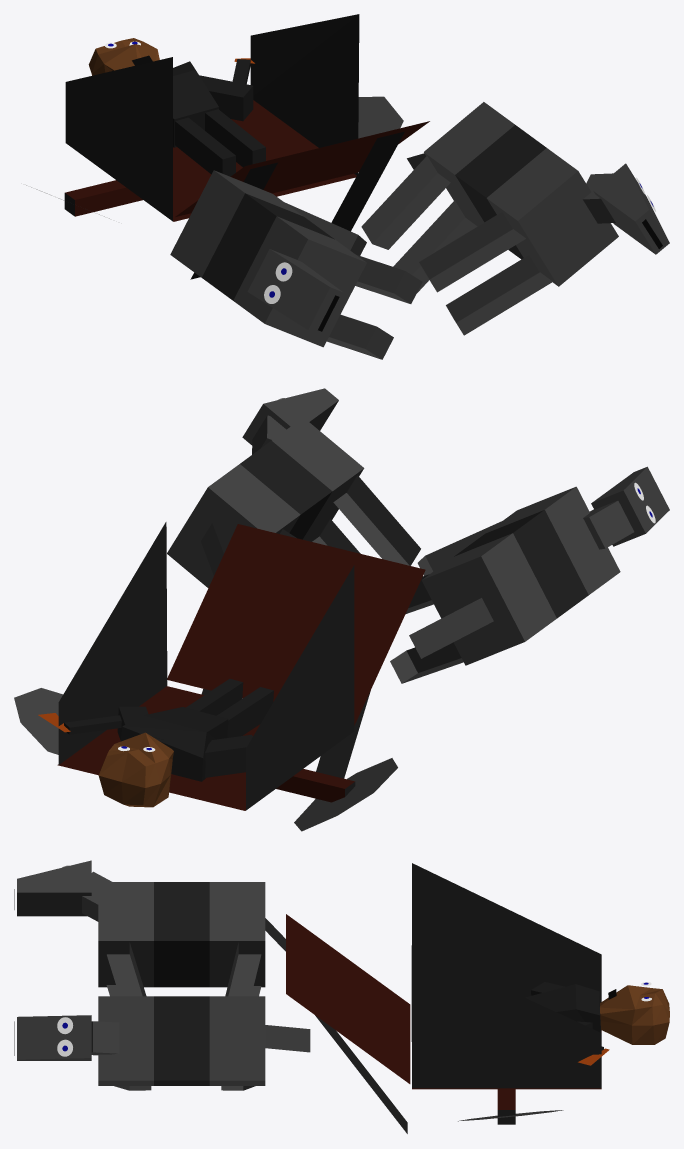
Rendered from lightchariot2d.obj.
The picture shows the model from 3 angles, top to bottom: view 1: azimuth 30°, elevation 25°; view 2: azimuth 150°, elevation 25°; view 3: azimuth 270°, elevation 25°; orthographic projection. The views are drawn at different scales.
Parts seen in each view (by area): view 1: Cube.006_Cube.009, Cube.015_Cube.017, Plane.003, Plane.004, Plane.002, Plane.005_Plane.006, Cube.021_Cube.023, Cube.012_Cube.014, Cube.011_Cube.013, Cube.009_Cube.010, Cube.014_Cube.016, Plane.013_Plane.014 (+13 smaller); view 2: Plane.005_Plane.006, Cube.015_Cube.017, Cube.006_Cube.009, Plane.003, Plane.004, Plane.002, Cube, Cube.001, Cube.012_Cube.014, Cube.021_Cube.023, Cube.014_Cube.016, Plane.010_Plane.011 (+12 smaller); view 3: Plane.004, Cube.015_Cube.017, Cube.006_Cube.009, Plane.003, Plane.005_Plane.006, Cube, Cube.021_Cube.023, Cube.014_Cube.016, Cube.001, Cube.018_Cube.020, Cube.017_Cube.019, Plane.008_Plane.009 (+4 smaller).
Part boxes in pixels (box(x1,y1,x2,y2)): Cube.006_Cube.009: box(424, 102, 618, 286); Cube.015_Cube.017: box(170, 170, 366, 347); Plane.003: box(65, 57, 172, 221); Plane.004: box(250, 14, 359, 175); Plane.002: box(173, 100, 356, 221); Plane.005_Plane.006: box(175, 121, 429, 216); Cube.021_Cube.023: box(247, 249, 343, 335); Cube.012_Cube.014: box(419, 211, 525, 292); Cube.011_Cube.013: box(446, 255, 552, 335); Cube.009_Cube.010: box(361, 156, 450, 249); Cube.014_Cube.016: box(593, 163, 669, 254); Plane.013_Plane.014: box(331, 131, 404, 231); Plane.005_Plane.006: box(167, 524, 425, 725); Cube.015_Cube.017: box(421, 486, 620, 665); Cube.006_Cube.009: box(167, 417, 364, 587); Plane.003: box(246, 565, 354, 810); Plane.004: box(58, 522, 167, 764); Plane.002: box(57, 686, 259, 810); Cube: box(98, 732, 173, 807); Cube.001: box(120, 707, 228, 781); Cube.012_Cube.014: box(333, 475, 420, 565); Cube.021_Cube.023: box(591, 466, 669, 546); Cube.014_Cube.016: box(242, 388, 338, 445); Plane.010_Plane.011: box(409, 598, 493, 658); Plane.004: box(411, 945, 601, 1088); Cube.015_Cube.017: box(98, 882, 265, 987); Cube.006_Cube.009: box(98, 996, 265, 1085); Plane.003: box(412, 863, 601, 1002); Plane.005_Plane.006: box(286, 914, 410, 1083); Cube: box(600, 985, 669, 1044); Cube.021_Cube.023: box(17, 860, 91, 916); Cube.014_Cube.016: box(17, 1015, 91, 1060); Cube.001: box(525, 984, 601, 1032); Cube.018_Cube.020: box(106, 942, 146, 996); Cube.017_Cube.019: box(225, 942, 261, 996); Plane.008_Plane.009: box(265, 1025, 310, 1052).
Size of the model in its own units: 10.32 by 5.55 by 16.63.
